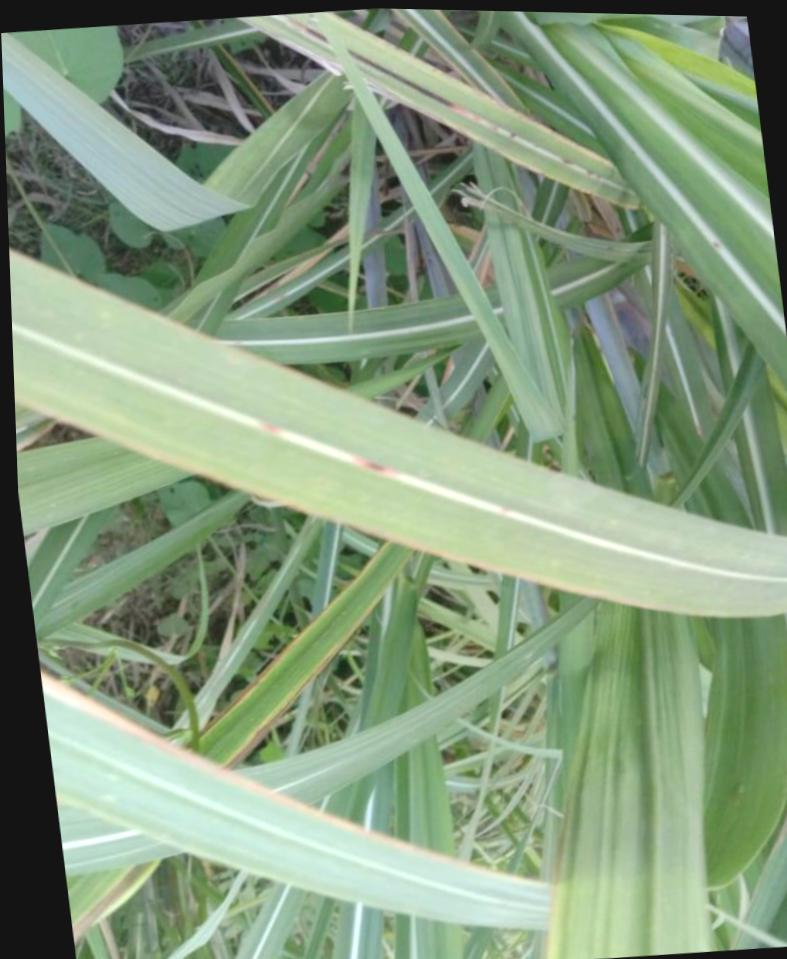RedRot: (347, 47, 518, 139), (350, 455, 401, 478), (286, 18, 329, 45), (561, 157, 604, 180), (253, 420, 284, 435), (496, 505, 513, 516)
